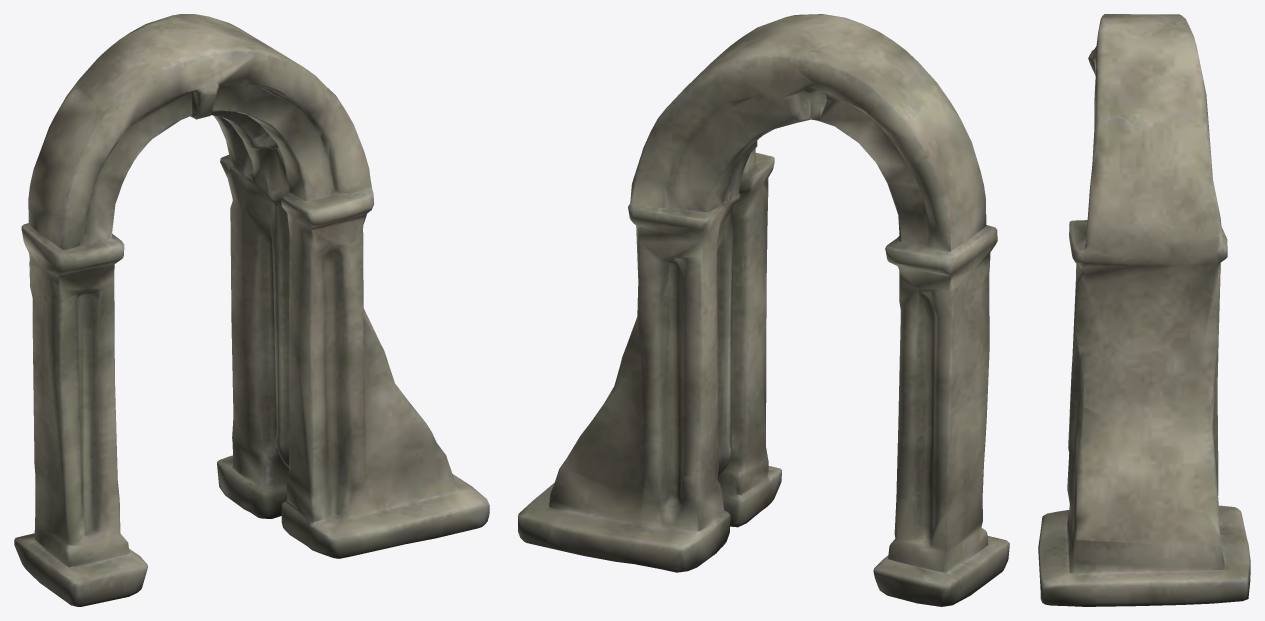
File: weathered-limestone-street-arch-v001.glb
The picture shows the model from 3 angles, left to right: view 1: azimuth 30°, elevation 25°; view 2: azimuth 150°, elevation 25°; view 3: azimuth 270°, elevation 25°; orthographic projection. The views are drawn at different scales.
Parts seen in each view (by area): view 1: weathered-limestone-street-arch; view 2: weathered-limestone-street-arch; view 3: weathered-limestone-street-arch.
Boxes of the visible parts, box(x1,y1,x2,y2) form: weathered-limestone-street-arch: box(14, 14, 489, 606); weathered-limestone-street-arch: box(518, 14, 1009, 606); weathered-limestone-street-arch: box(1038, 14, 1250, 606).
Size of the model in its own units: 2.56 by 3.15 by 1.29.
1 material, 1 textured.
